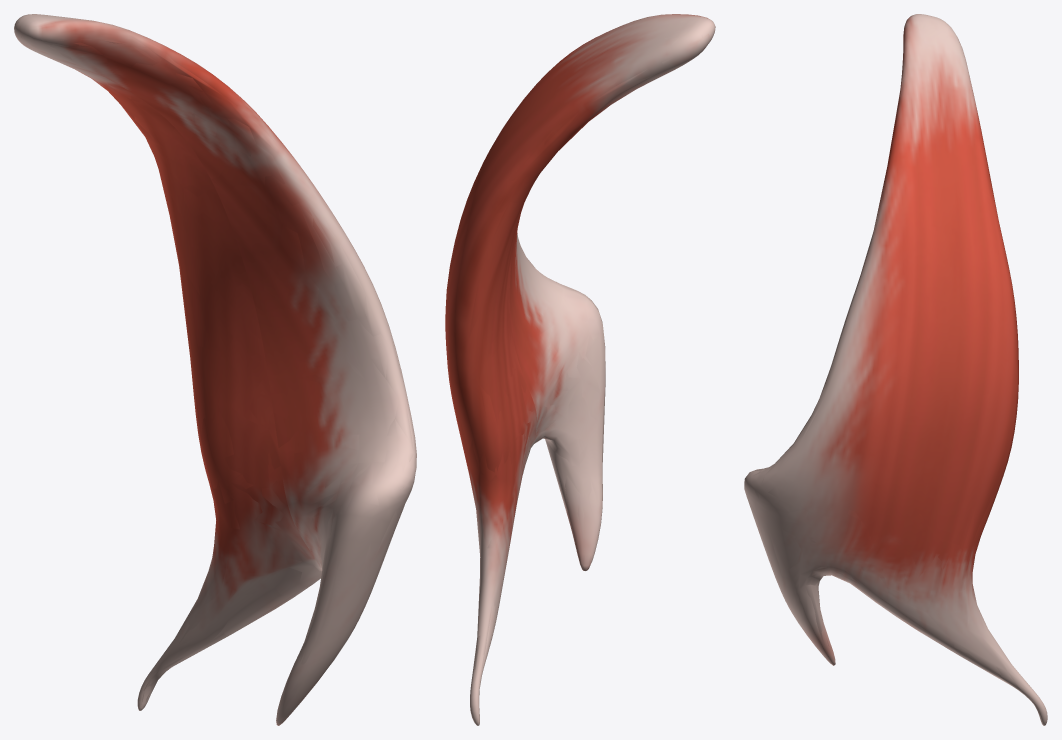
The model's file is L Biceps Femoris.fbx.
3 views of the same model, side by side, from view 1: azimuth 30°, elevation 25°; view 2: azimuth 150°, elevation 25°; view 3: azimuth 270°, elevation 25° (orthographic). The views are drawn at different scales.
Visible parts, largest first — view 1: L Biceps Femoris, L Biceps Femoris low; view 2: L Biceps Femoris, L Biceps Femoris low; view 3: L Biceps Femoris, L Biceps Femoris low.
Boxes of the visible parts, <box> form: L Biceps Femoris: <box>14,14,416,725</box>; L Biceps Femoris low: <box>17,15,415,714</box>; L Biceps Femoris: <box>445,14,715,725</box>; L Biceps Femoris low: <box>445,18,713,719</box>; L Biceps Femoris: <box>744,14,1047,725</box>; L Biceps Femoris low: <box>748,15,1039,714</box>.
Bounding box in the file's own units: 14.13 × 34 × 14.62.
